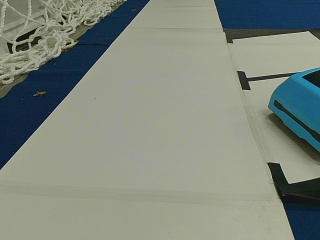car: (267, 65, 317, 150)
